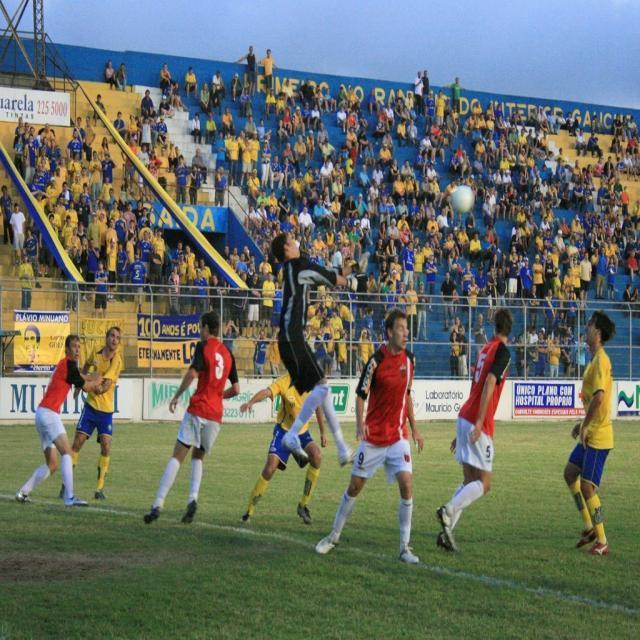football: (444, 184, 488, 219)
